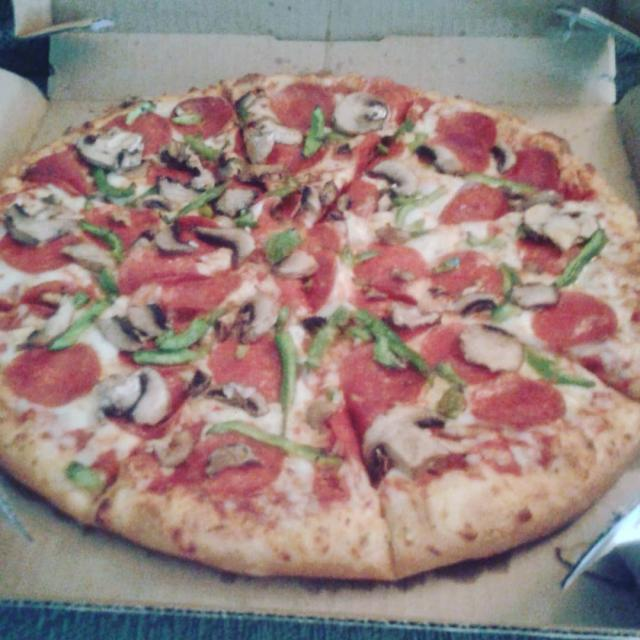mushrooms: (360, 404, 449, 472), (102, 366, 172, 426), (76, 122, 147, 172), (6, 194, 74, 245), (214, 292, 280, 344), (460, 323, 525, 374), (160, 137, 216, 192), (25, 289, 75, 349), (193, 222, 256, 268), (329, 91, 388, 136), (94, 310, 148, 351), (365, 159, 421, 198), (206, 384, 268, 418), (540, 214, 596, 249), (205, 444, 265, 476), (415, 140, 465, 176), (59, 242, 112, 275), (129, 300, 171, 338), (154, 219, 197, 255), (390, 298, 440, 328), (510, 282, 561, 310), (519, 204, 558, 240), (446, 292, 502, 316), (211, 187, 257, 215), (272, 251, 319, 277), (300, 185, 321, 232), (489, 140, 516, 173), (138, 194, 172, 210)
pepperoni: (322, 341, 426, 466), (183, 430, 284, 498), (2, 341, 100, 406), (101, 368, 190, 438), (276, 225, 340, 316), (351, 244, 430, 317), (420, 324, 516, 382), (228, 122, 331, 175), (207, 333, 287, 401), (470, 373, 567, 428), (157, 273, 248, 330), (532, 290, 617, 348), (428, 249, 504, 308), (114, 247, 196, 294), (0, 227, 82, 273), (18, 279, 99, 318), (242, 189, 302, 241), (96, 112, 172, 153), (84, 206, 158, 248), (269, 83, 338, 127), (438, 180, 508, 221), (321, 177, 383, 223), (170, 95, 238, 136), (21, 154, 86, 195), (512, 235, 582, 272), (354, 132, 406, 179), (372, 81, 422, 126), (504, 148, 560, 188), (430, 138, 490, 173), (438, 110, 497, 145), (171, 216, 224, 254), (145, 157, 216, 185)
pizza: (0, 68, 640, 586)
